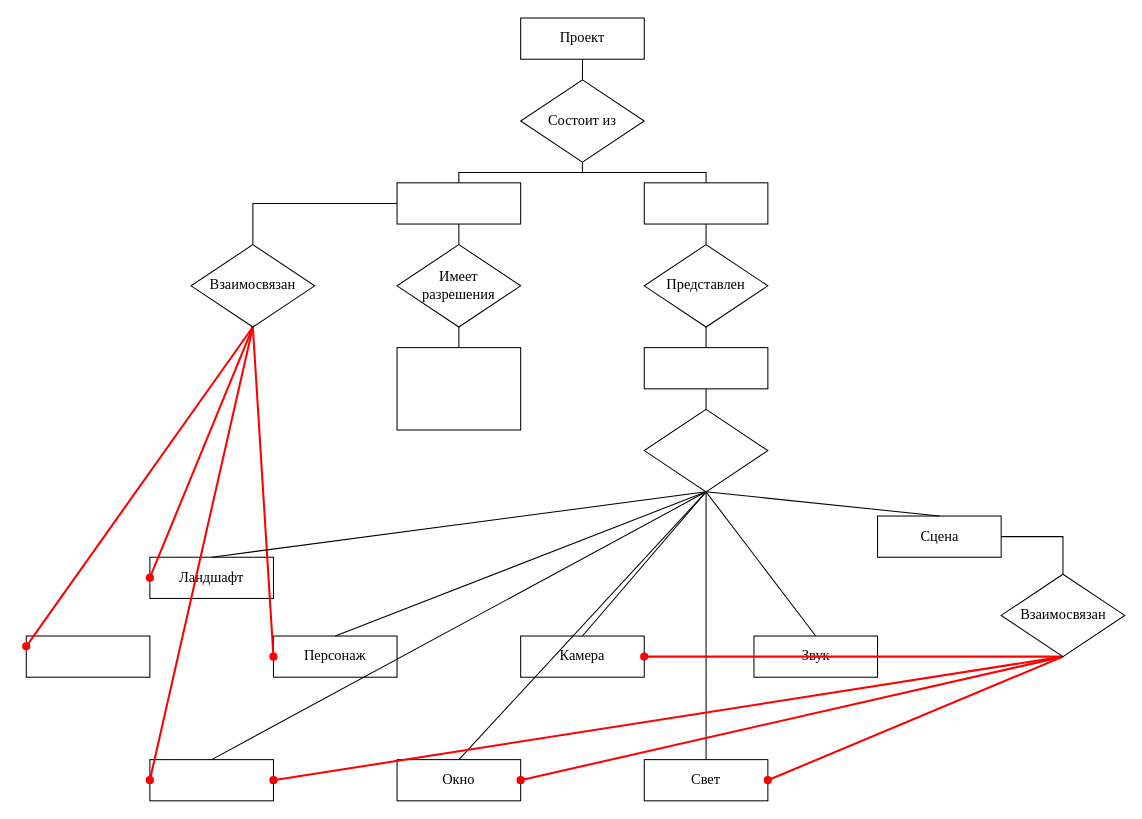
The diagram is 1142 pixels wide and 819 high, and some of its shapes have lost their labels. The shapes that lost their labels are listed below. From the top down, each one's centre as x and y in pixels, then its label:
At pixel 458 203: "Ресурс".
At pixel 705 203: "Объект".
At pixel 458 388: "*.mesh *.material *.particle *.overlay *.scene".
At pixel 705 368: "Имидж\ Схема имиджей".
At pixel 87 656: "Частица".
At pixel 211 780: "Фон".
